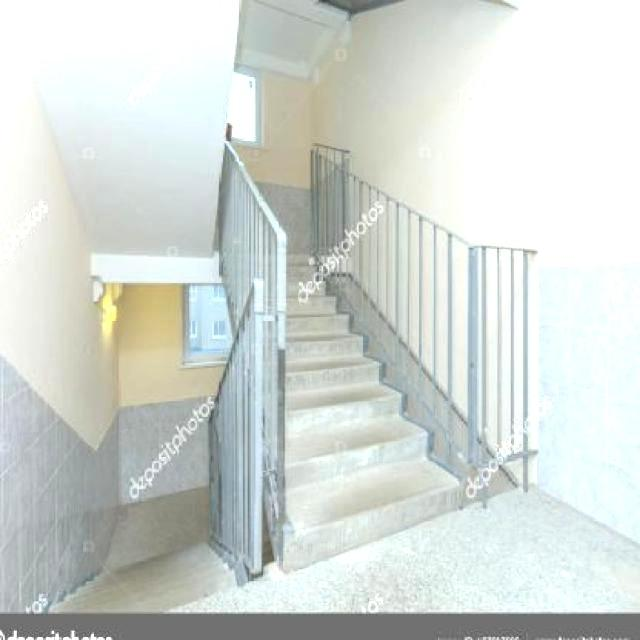stair: (214, 93, 486, 578)
